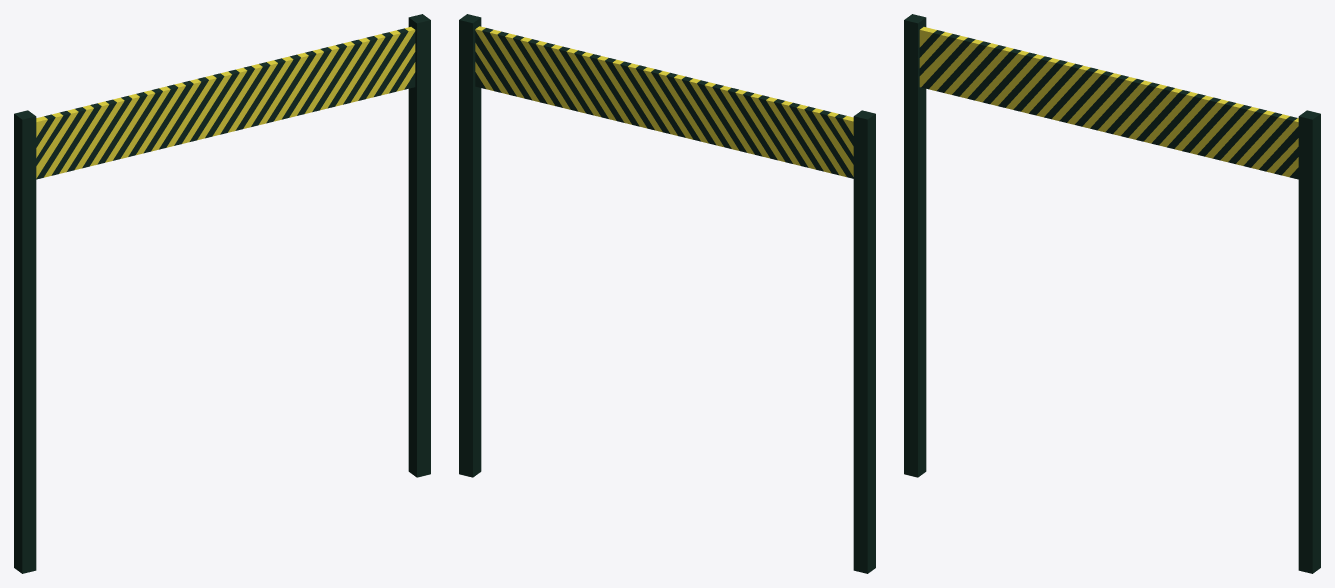
File: sar_buyuk_engel.fbx
The picture shows the model from 3 angles, left to right: view 1: azimuth 30°, elevation 25°; view 2: azimuth 150°, elevation 25°; view 3: azimuth 330°, elevation 25°; orthographic projection.
Parts seen in each view (by area): view 1: Cube.011, Cube.007, Cube.005; view 2: Cube.011, Cube.007, Cube.005; view 3: Cube.011, Cube.005, Cube.007.
Part boxes in pixels (x1=…): Cube.011: x1=36, y1=27, x2=415, y2=179; Cube.007: x1=14, y1=110, x2=36, y2=573; Cube.005: x1=408, y1=14, x2=430, y2=477; Cube.011: x1=475, y1=26, x2=853, y2=178; Cube.007: x1=853, y1=110, x2=875, y2=573; Cube.005: x1=459, y1=14, x2=481, y2=477; Cube.011: x1=919, y1=27, x2=1298, y2=179; Cube.005: x1=1298, y1=110, x2=1320, y2=573; Cube.007: x1=904, y1=14, x2=926, y2=477.
Bounding box in the file's own units: 273 × 291 × 9.47.
